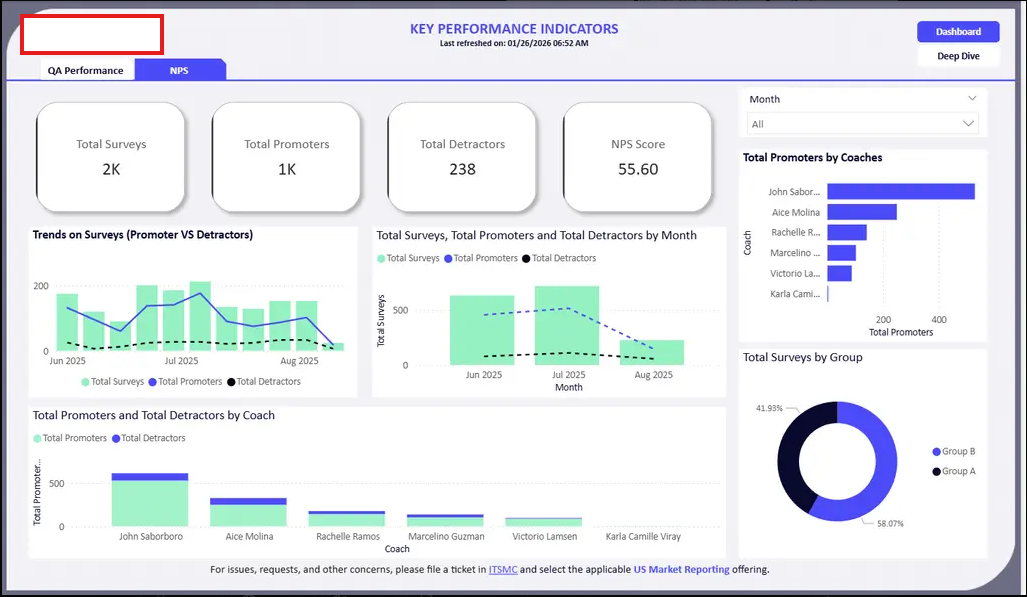

The page's visual inventory and layout, read from the dashboard file:
{"tool":"powerbi","page":{"name":"NPS","canvas":[1280,720],"ordinal":1},"visuals":[{"type":"pageNavigator","box":[55.9,70.6,469.1,24.7],"z":0},{"type":"image","box":[74.7,15.4,169.3,49.5],"z":1000},{"type":"textbox","box":[247.8,673.3,784.4,31.1],"z":2000},{"type":"image","box":[1.1,156.1,53,48.4],"z":3000},{"type":"image","box":[1.1,205.5,53,48.4],"z":4000},{"type":"textbox","box":[447.8,17,442.2,34.4],"z":5000},{"type":"card","fields":{"Values":["Date Last Refreshed.Last Refreshed Date"]},"box":[535.6,40,266.7,25.6],"z":6000},{"type":"actionButton","box":[1155.3,25,99.8,26],"z":7000},{"type":"actionButton","box":[1155.3,54,99.8,26],"z":8000},{"type":"image","box":[1,105,53,48],"z":9000},{"type":"shape","box":[55,89,1219.1,15.4],"z":10000},{"type":"lineClusteredColumnComboChart","title":"Trends on Surveys (Promoter VS Detractors)","fields":{"Category":["Dim_Date.Start of Week"],"Y":["KPI Measures.Total Surveys"],"Y2":["KPI Measures.Total Promoters","KPI Measures.Total Detractors"]},"box":[82.2,273.3,396.7,205.6],"z":16000},{"type":"clusteredBarChart","title":"Total Promoters by Coaches","fields":{"Category":["Fact_NPS.Coach"],"Y":["KPI Measures.Total Promoters"]},"box":[940,180,300,232.2],"z":17000},{"type":"donutChart","fields":{"Y":["KPI Measures.Total Surveys"],"Category":["Fact_NPS.Group"]},"box":[940,420,300,253.3],"z":18000},{"type":"cardVisual","fields":{"Data":["KPI Measures.Total Surveys","KPI Measures.Total Promoters","KPI Measures.Total Detractors","KPI Measures.NPS Score"]},"box":[74.4,105.6,850,167.8],"z":19000},{"type":"lineClusteredColumnComboChart","fields":{"Category":["Dim_Date.Month"],"Y":["KPI Measures.Total Surveys"],"Y2":["KPI Measures.Total Promoters","KPI Measures.Total Detractors"]},"box":[497.8,273.3,426.7,205.6],"z":20000},{"type":"slicer","fields":{"Values":["Dim_Date.Month"]},"box":[940,105.6,300,58.9],"z":21000},{"type":"columnChart","fields":{"Y":["KPI Measures.Total Promoters","KPI Measures.Total Detractors"],"Category":["Fact_NPS.Coach"]},"box":[82.2,490,842.2,183.3],"z":21001},{"type":"pageNavigator","box":[97.8,70,224.4,26.7],"z":21002}]}

Visuals, with their boxes on the page's 1280x720 design canvas (x1, y1, x2, y2). These are canvas units, not pixel positions in the 1027x597 screenshot, which may show the page scaled, cropped or inside an application window:
pageNavigator: 56,71,525,95
image: 75,15,244,65
textbox: 248,673,1032,704
image: 1,156,54,204
image: 1,206,54,254
textbox: 448,17,890,51
card - Date Last Refreshed.Last Refreshed Date: 536,40,802,66
actionButton: 1155,25,1255,51
actionButton: 1155,54,1255,80
image: 1,105,54,153
shape: 55,89,1274,104
"Trends on Surveys (Promoter VS Detractors)" lineClusteredColumnComboChart: 82,273,479,479
"Total Promoters by Coaches" clusteredBarChart: 940,180,1240,412
donutChart - KPI Measures.Total Surveys x Fact_NPS.Group: 940,420,1240,673
cardVisual - KPI Measures.Total Surveys x KPI Measures.Total Promoters: 74,106,924,273
lineClusteredColumnComboChart - Dim_Date.Month x KPI Measures.Total Surveys: 498,273,924,479
slicer - Dim_Date.Month: 940,106,1240,164
columnChart - KPI Measures.Total Promoters x KPI Measures.Total Detractors: 82,490,924,673
pageNavigator: 98,70,322,97
